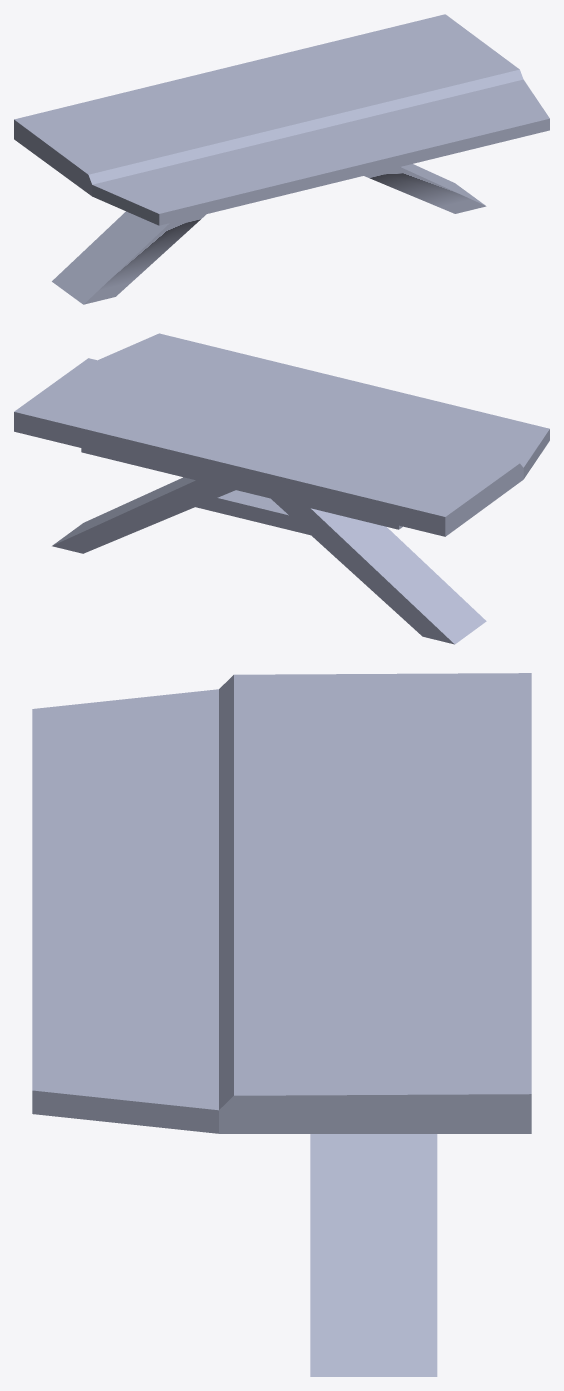
File: WorkTable.fbx
3 renders of one model, top to bottom at view 1: azimuth 30°, elevation 25°; view 2: azimuth 150°, elevation 25°; view 3: azimuth 270°, elevation 25°, orthographic. The views are drawn at different scales.
Parts seen in each view (by area): view 1: Куб.084; view 2: Куб.084; view 3: Куб.084.
Boxes of the visible parts, <box> form: Куб.084: <box>14,14,549,304</box>; Куб.084: <box>14,333,549,644</box>; Куб.084: <box>32,673,531,1376</box>.
Size of the model in its own units: 260 by 85.25 by 130.
